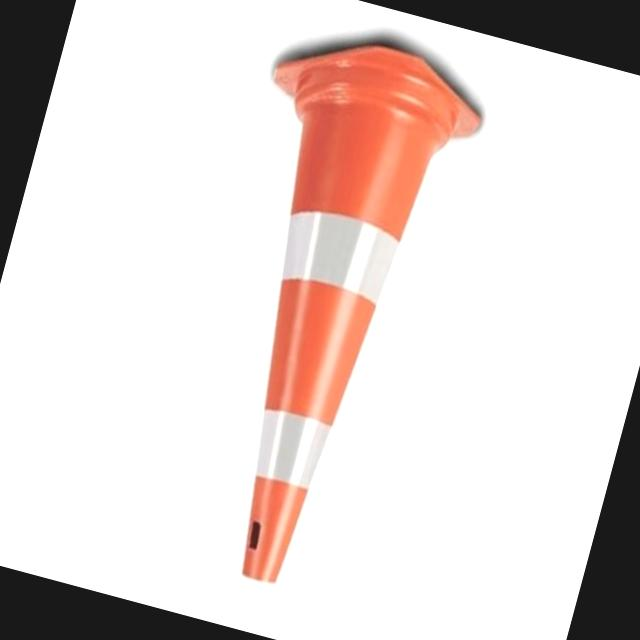cone: (139, 17, 491, 596)
